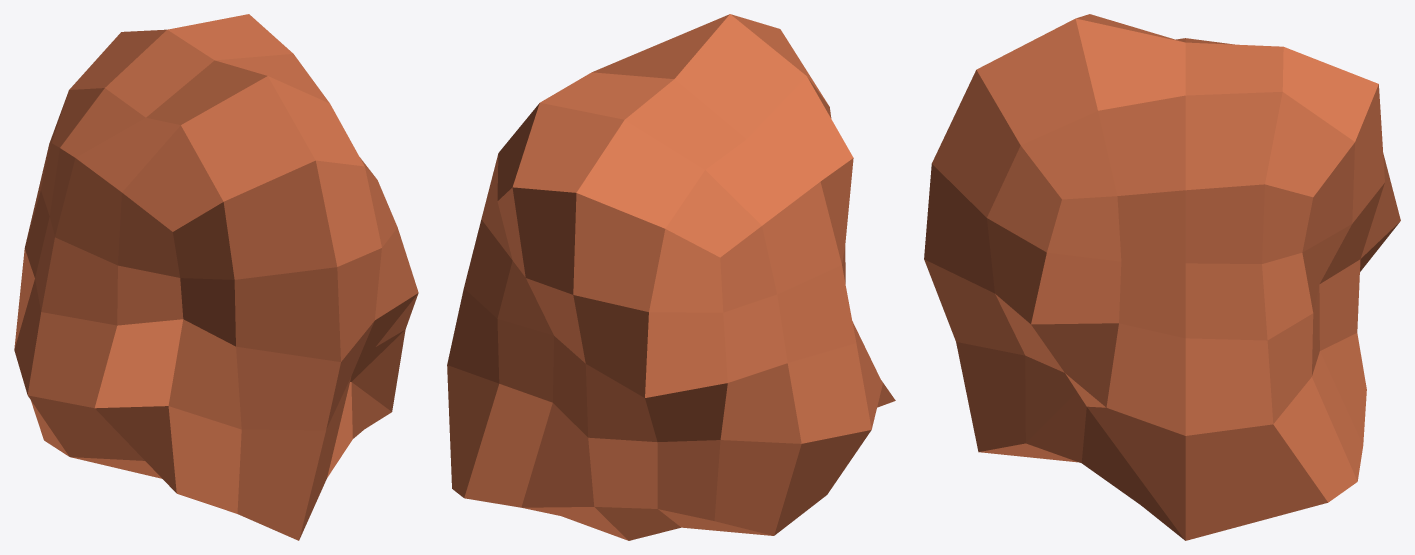
File: rock1.fbx
3 renders of one model, left to right at view 1: azimuth 30°, elevation 25°; view 2: azimuth 150°, elevation 25°; view 3: azimuth 270°, elevation 25°, orthographic. The views are drawn at different scales.
Parts seen in each view (by area): view 1: Cube; view 2: Cube; view 3: Cube.
Part boxes in pixels (x1,y1,x2,y2): Cube: (14,14,418,540); Cube: (447,14,895,540); Cube: (924,14,1400,540).
Bounding box in the file's own units: 267 × 296 × 285.
